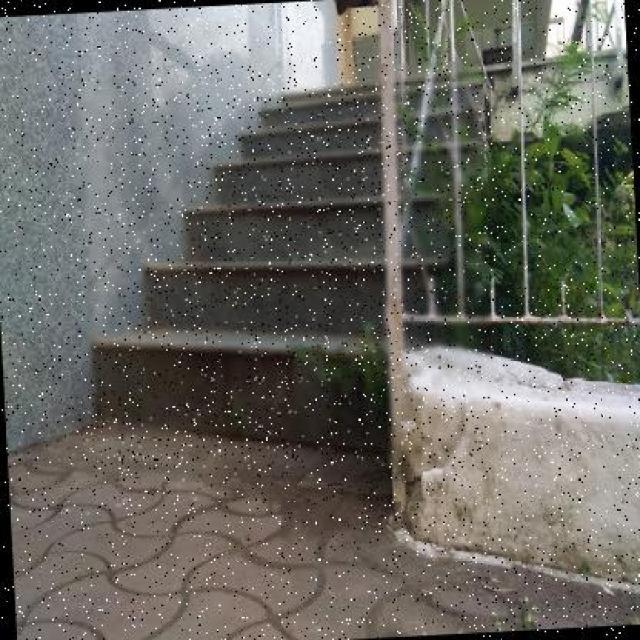Stairs: (125, 43, 496, 445)
